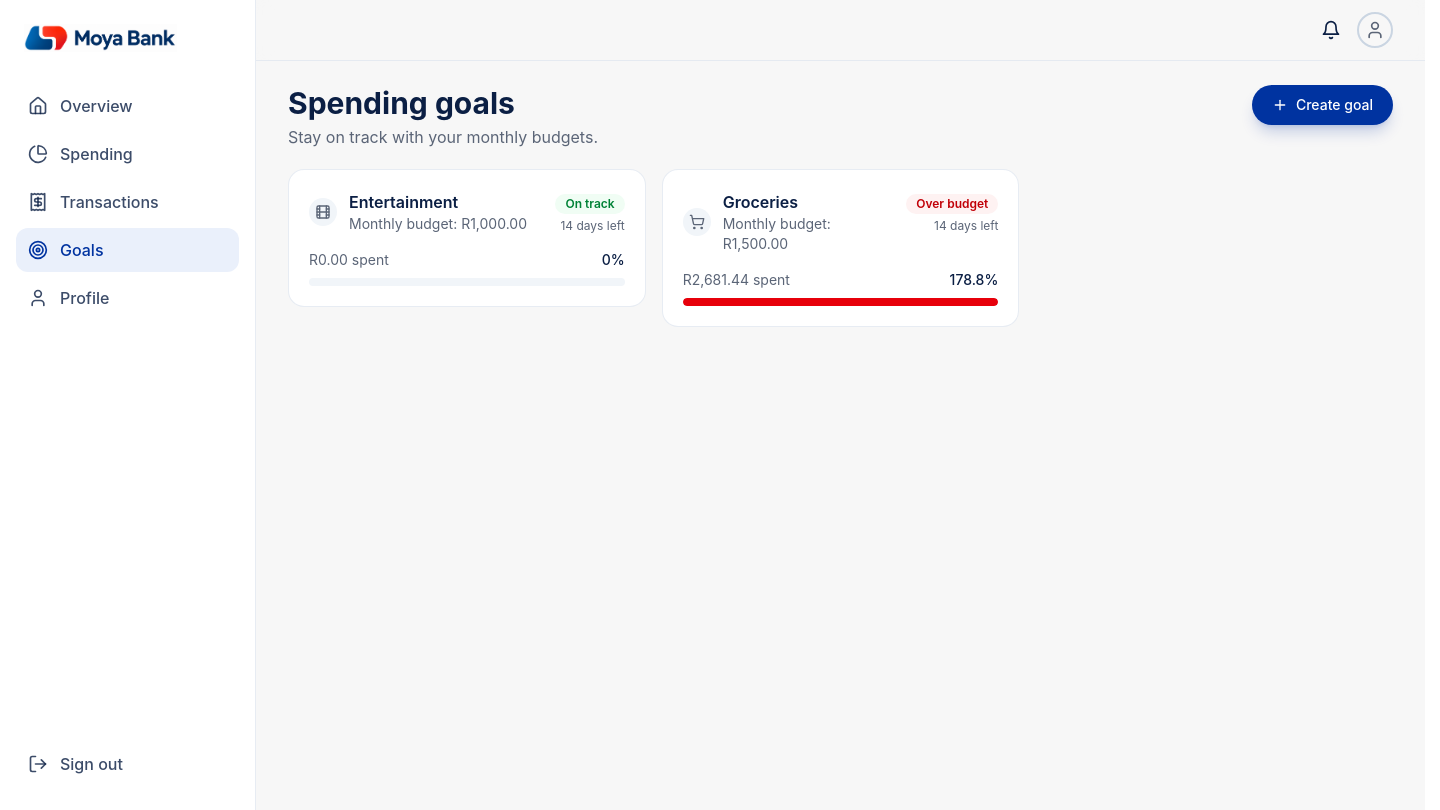
Test: Goals page › explains a duplicate goal reported by the API
Click the button "Create goal". click: (1322, 105)
box: [1252,85,1393,125]
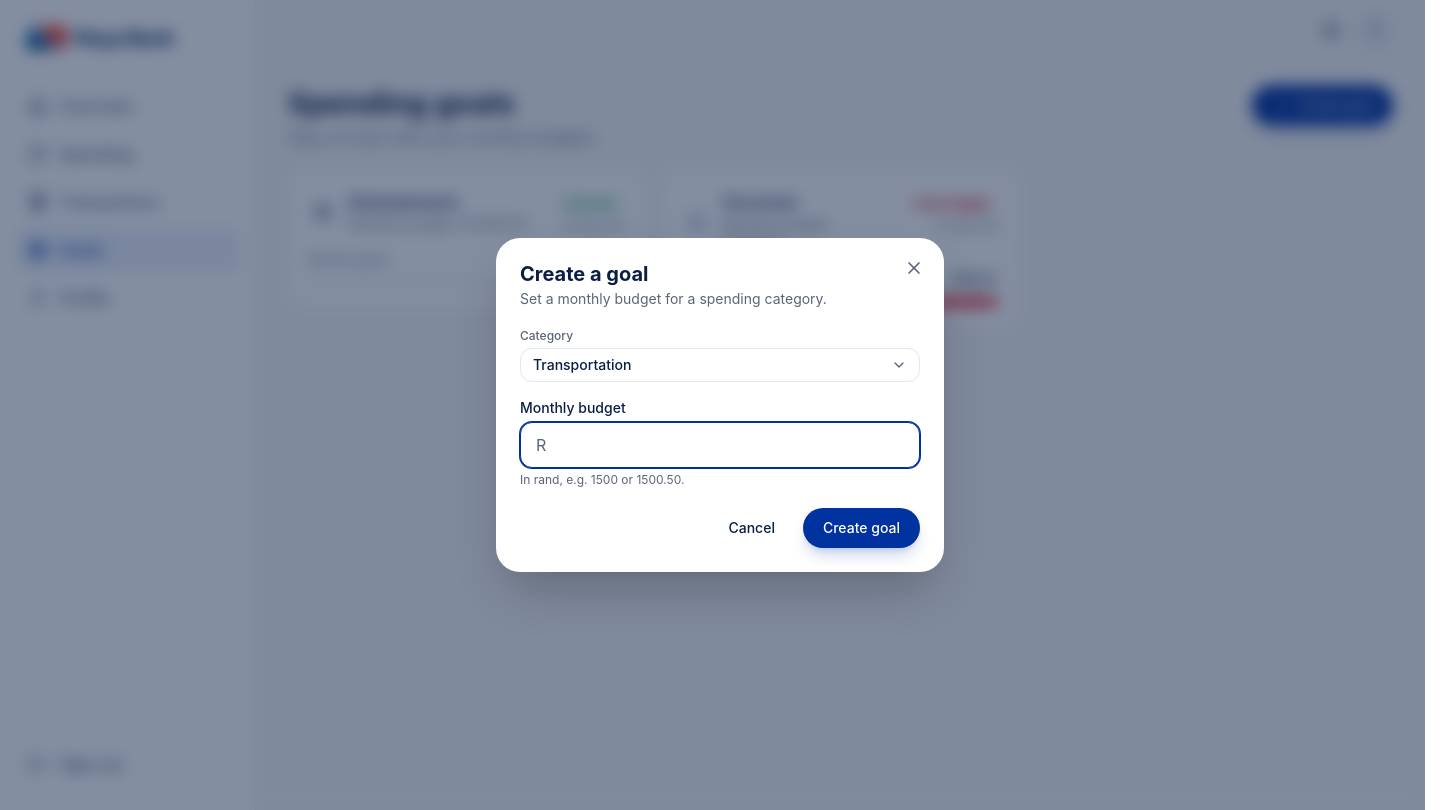
Type "500" into the field labelled "Monthly budget". click: (720, 445)
box: [520,422,920,468]
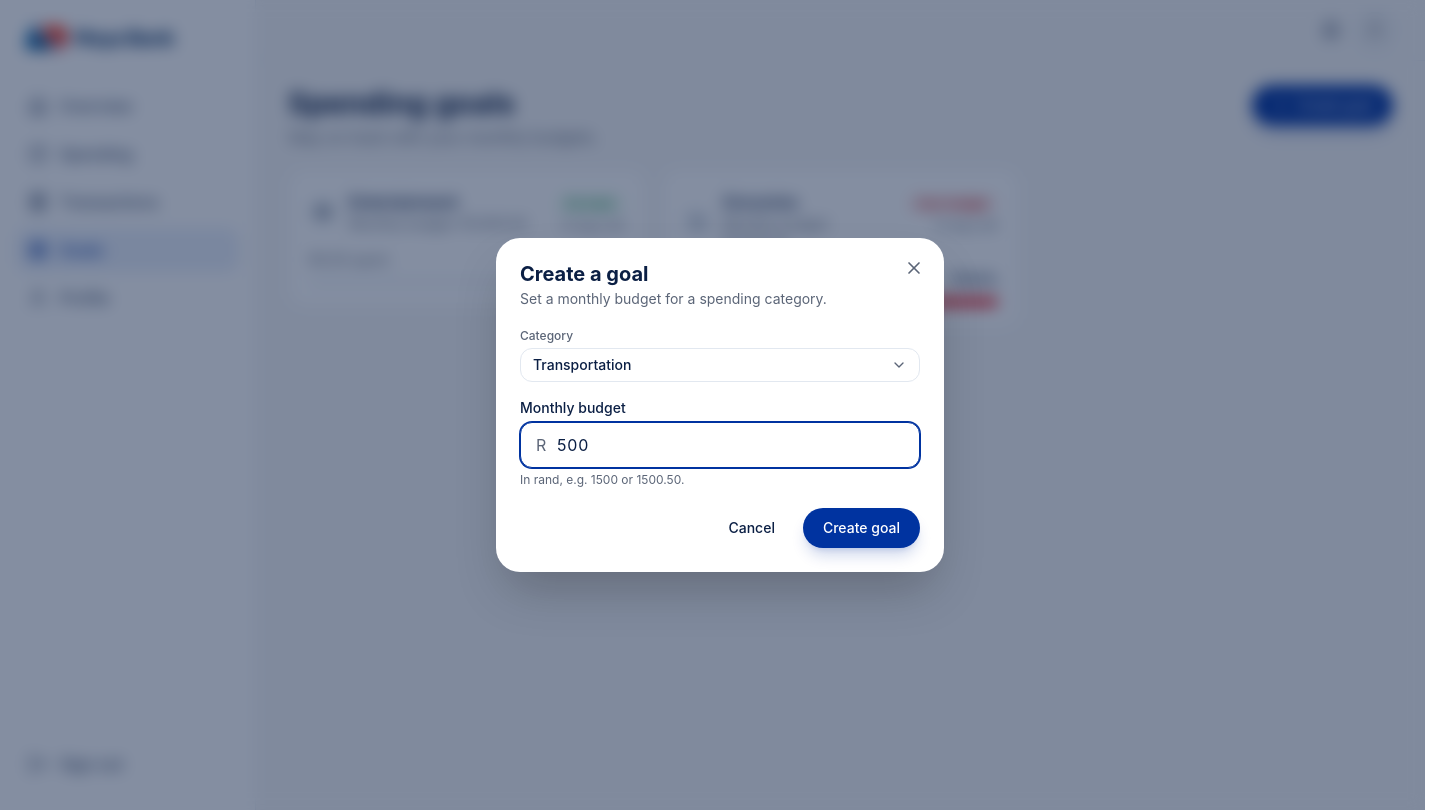
Click the button "Create goal". click: (861, 528)
box: [803,508,920,548]
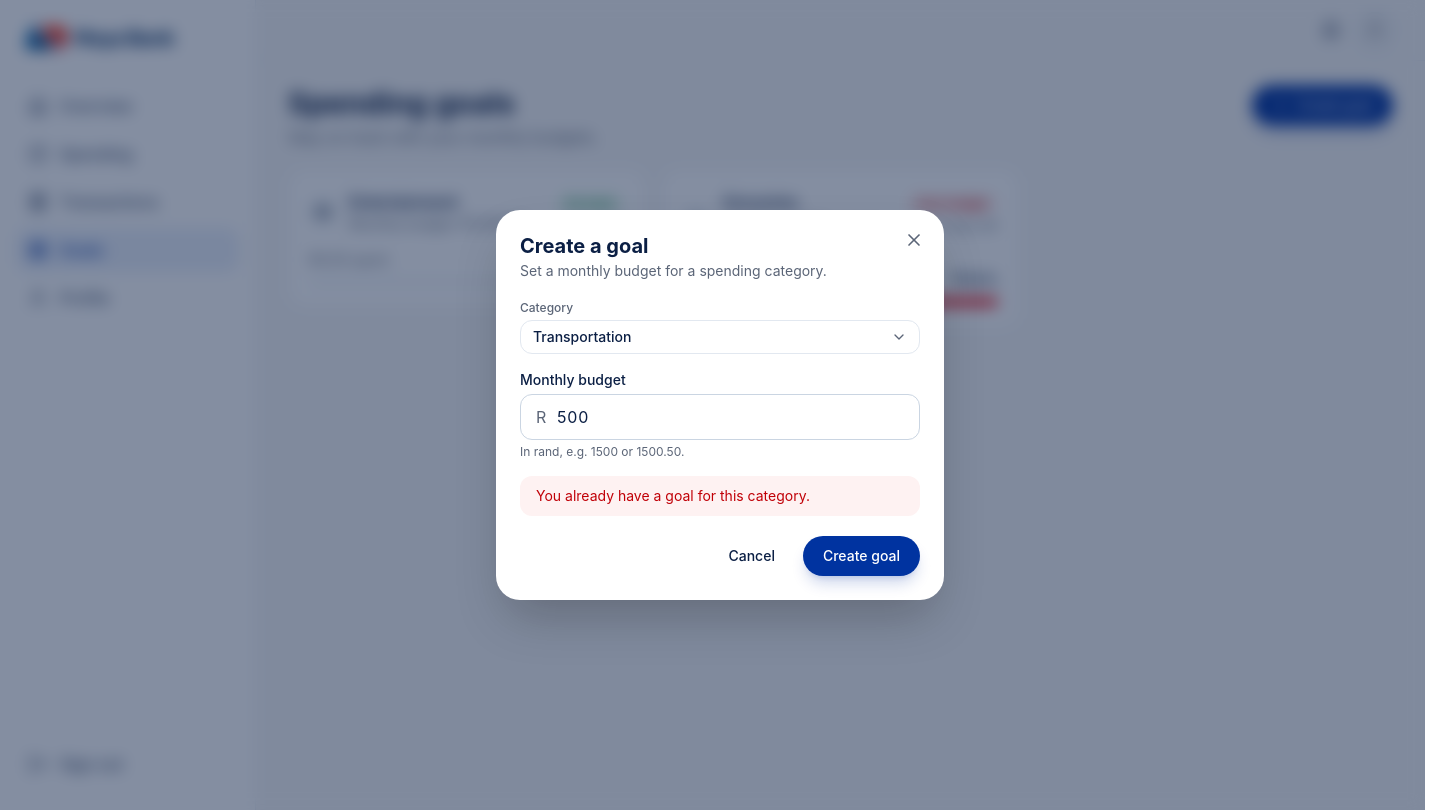
Check: the message reads "You already have a goal for this category.", box [536,487,810,504]
